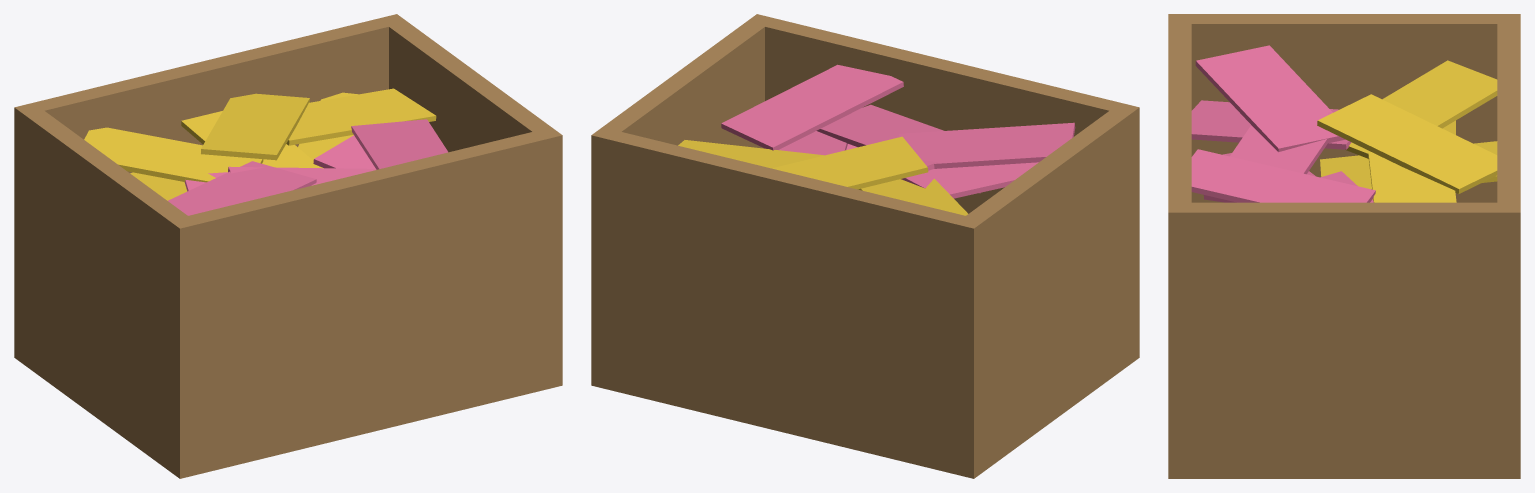
Rendered from ticket_box.glb.
3 views of the same model, side by side, from view 1: azimuth 30°, elevation 25°; view 2: azimuth 150°, elevation 25°; view 3: azimuth 270°, elevation 25° (orthographic). The views are drawn at different scales.
Visible parts, largest first — view 1: box_ticket_card, tickets_ticket_yellow, tickets_ticket_pink; view 2: box_ticket_card, tickets_ticket_pink, tickets_ticket_yellow; view 3: box_ticket_card, tickets_ticket_pink, tickets_ticket_yellow.
Boxes of the visible parts, <box> form: box_ticket_card: <box>14,14,562,478</box>; tickets_ticket_yellow: <box>84,88,436,200</box>; tickets_ticket_pink: <box>168,119,447,215</box>; box_ticket_card: <box>591,14,1139,478</box>; tickets_ticket_pink: <box>721,64,1075,198</box>; tickets_ticket_yellow: <box>678,136,967,215</box>; box_ticket_card: <box>1168,14,1520,478</box>; tickets_ticket_pink: <box>1191,45,1375,202</box>; tickets_ticket_yellow: <box>1317,60,1497,202</box>.
Bounding box in the file's own units: 0.4 × 0.25 × 0.3.
